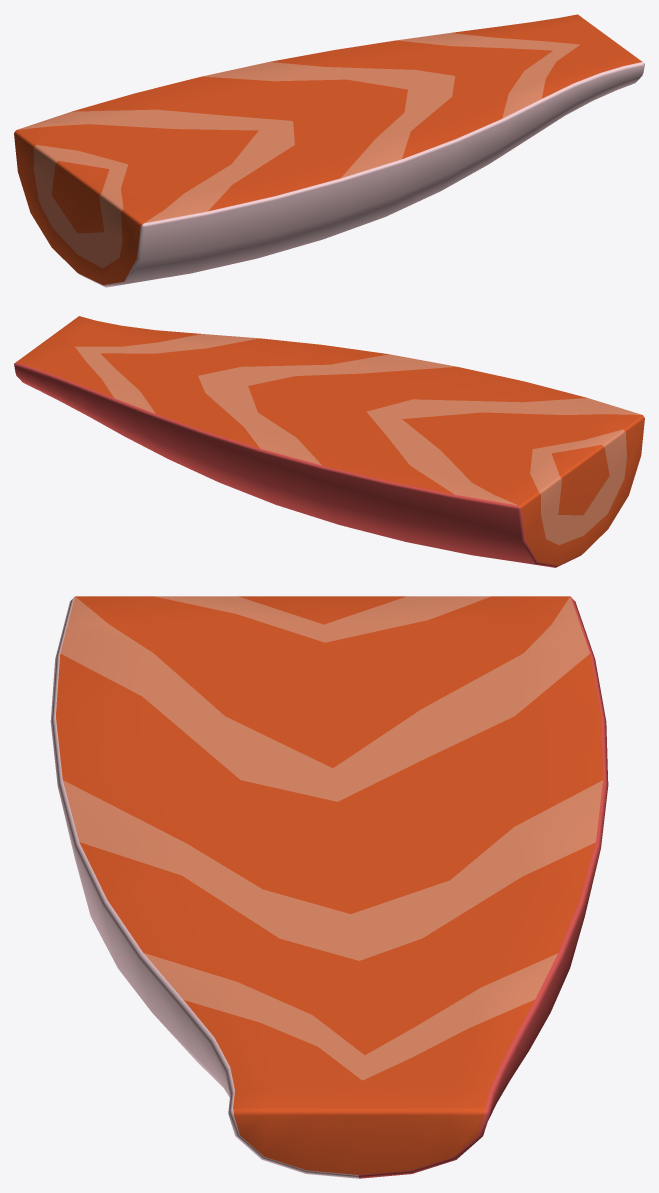
The model's file is Salmon_3_Fillet_1.fbx.
3 views of the same model, one above another, from view 1: azimuth 30°, elevation 25°; view 2: azimuth 150°, elevation 25°; view 3: azimuth 270°, elevation 25° (orthographic). The views are drawn at different scales.
Parts seen in each view (by area): view 1: Salmon_3_Fillet_1; view 2: Salmon_3_Fillet_1; view 3: Salmon_3_Fillet_1.
Boxes of the visible parts, <box> form: Salmon_3_Fillet_1: <box>14,14,644,287</box>; Salmon_3_Fillet_1: <box>14,316,644,567</box>; Salmon_3_Fillet_1: <box>50,596,608,1178</box>.
Size of the model in its own units: 58.27 by 10.48 by 26.59.
